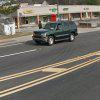Car: (27, 18, 92, 52)
